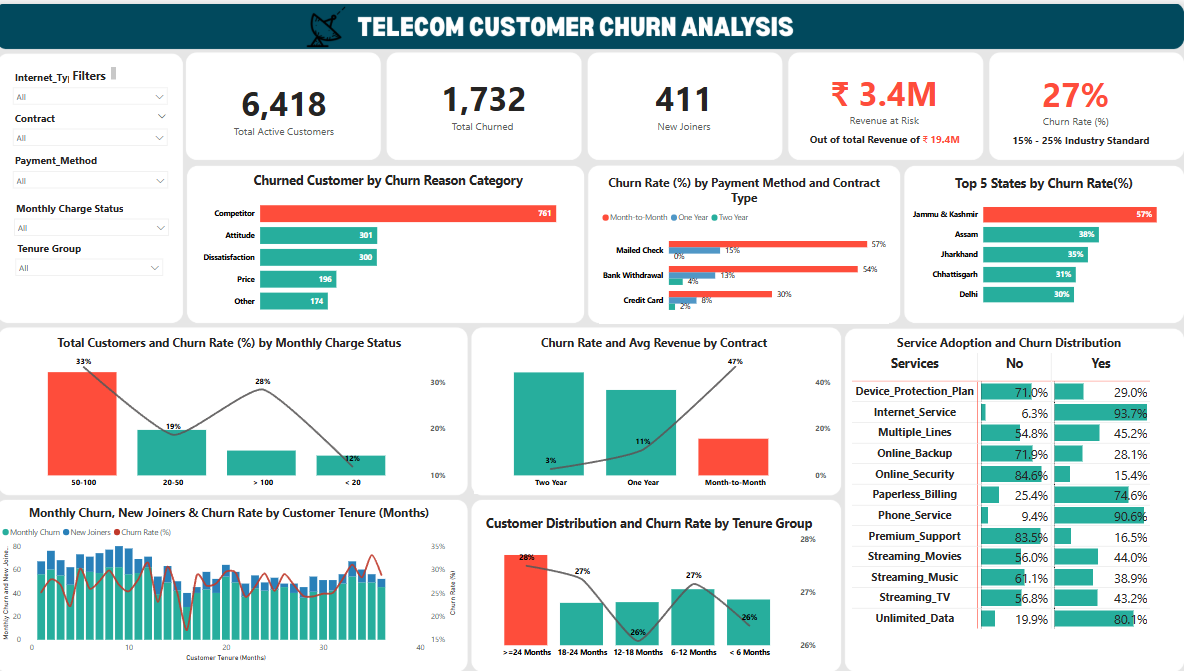

This screenshot's page, from the dashboard's own definition file:
{"tool":"powerbi","page":{"name":"Page 1","canvas":[1920,1080],"ordinal":5},"visuals":[{"type":"card","fields":{"Values":["tbl_Measures.Total Customers"]},"box":[2,0,172,119],"z":0},{"type":"card","fields":{"Values":["tbl_Measures.Total Churned Customers"]},"box":[165,0,182,129],"z":1000},{"type":"card","fields":{"Values":["tbl_Measures.Churn Rate (%)"]},"box":[692,0,161,151],"z":2000},{"type":"card","fields":{"Values":["tbl_Measures.Revenue at Risk"]},"box":[473,0,219,138],"z":3000},{"type":"card","fields":{"Values":["tbl_Measures.New Joiners"]},"box":[334,5,139,119],"z":4000},{"type":"lineStackedColumnComboChart","fields":{"Category":["prod_Churn.Contract"],"Y":["tbl_Measures.Avg Revenue per Customer"],"Y2":["tbl_Measures.Churn Rate (%)"]},"box":[0,137.9,291,240.9],"z":5000},{"type":"lineStackedColumnComboChart","fields":{"Category":["prod_Churn.Churn_Category"],"Series":["prod_Churn.Customer_Status"],"Y":["CountNonNull(prod_Churn.Customer_Status)"]},"box":[627.8,150.4,360.9,256.1],"z":6000},{"type":"lineStackedColumnComboChart","fields":{"Category":["Mapping_TenureGrp.Tenure Group"],"Y":["tbl_Measures.Total Customers"],"Y2":["tbl_Measures.Churn Rate (%)"]},"box":[312,163,305,216],"z":7000},{"type":"clusteredBarChart","fields":{"Category":["prod_Churn.Payment_Method"],"Y":["tbl_Measures.Churn Rate (%)"],"Series":["prod_Churn.Contract"]},"box":[2,448,245,240],"z":8000},{"type":"lineStackedColumnComboChart","fields":{"Category":["prod_Churn.Monthly Charge Status"],"Y2":["tbl_Measures.Churn Rate (%)"],"Y":["tbl_Measures.Total Customers"]},"box":[256,448,392,240],"z":9000},{"type":"filledMap","fields":{"Category":["prod_Churn.State"]},"box":[1105,515,175,205],"z":10000},{"type":"lineChart","fields":{"Y":["tbl_Measures.Monthly Churn","tbl_Measures.New Joiners"],"Category":["Mapping_TenureGrp.Tenure_in_Months"],"Y2":["tbl_Measures.Churn Rate (%)"]},"box":[660,448,481,205],"z":11000},{"type":"pivotTable","fields":{"Rows":["prod_services.Services"],"Columns":["prod_services.Status"],"Values":["Sum(prod_services.Churned status)"]},"box":[997,243,268,271],"z":12000},{"type":"slicer","fields":{"Values":["prod_services.Internet_Type"]},"box":[1012,5,268,69],"z":13000},{"type":"slicer","fields":{"Values":["prod_Churn.Contract"]},"box":[1007,69,268,69],"z":14000},{"type":"slicer","fields":{"Values":["prod_Churn.Payment_Method"]},"box":[1007,138,268,69],"z":15000},{"type":"slicer","fields":{"Values":["prod_Churn.Monthly Charge Status"]},"box":[1012,202,268,69],"z":16000}]}

Visuals, with their boxes in screenshot pixels (x1, y1, x2, y2), scaled from the page's 1920x1080 canvas onto the 1184x671 screenshot:
card - tbl_Measures.Total Customers: detection(1, 0, 107, 74)
card - tbl_Measures.Total Churned Customers: detection(102, 0, 214, 80)
card - tbl_Measures.Churn Rate (%): detection(427, 0, 526, 94)
card - tbl_Measures.Revenue at Risk: detection(292, 0, 427, 86)
card - tbl_Measures.New Joiners: detection(206, 3, 292, 77)
lineStackedColumnComboChart - prod_Churn.Contract x tbl_Measures.Avg Revenue per Customer: detection(0, 86, 179, 235)
lineStackedColumnComboChart - prod_Churn.Churn_Category x prod_Churn.Customer_Status: detection(387, 93, 610, 253)
lineStackedColumnComboChart - Mapping_TenureGrp.Tenure Group x tbl_Measures.Total Customers: detection(192, 101, 380, 235)
clusteredBarChart - prod_Churn.Payment_Method x tbl_Measures.Churn Rate (%): detection(1, 278, 152, 427)
lineStackedColumnComboChart - prod_Churn.Monthly Charge Status x tbl_Measures.Churn Rate (%): detection(158, 278, 400, 427)
filledMap - prod_Churn.State: detection(681, 320, 789, 447)
lineChart - tbl_Measures.Monthly Churn x tbl_Measures.New Joiners: detection(407, 278, 704, 406)
pivotTable - prod_services.Services x prod_services.Status: detection(615, 151, 780, 319)
slicer - prod_services.Internet_Type: detection(624, 3, 789, 46)
slicer - prod_Churn.Contract: detection(621, 43, 786, 86)
slicer - prod_Churn.Payment_Method: detection(621, 86, 786, 129)
slicer - prod_Churn.Monthly Charge Status: detection(624, 126, 789, 168)
